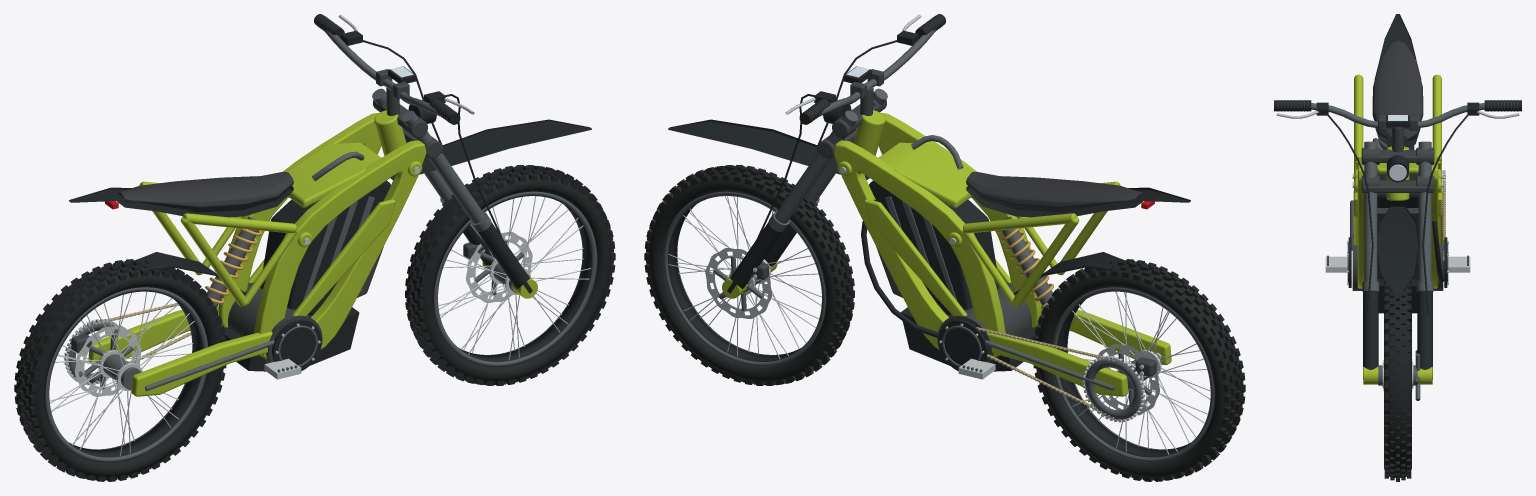
The model's file is sur-ron-light-bee.glb.
The picture shows the model from 3 angles, left to right: view 1: azimuth 30°, elevation 25°; view 2: azimuth 150°, elevation 25°; view 3: azimuth 270°, elevation 25°; orthographic projection. The views are drawn at different scales.
Visible parts, largest first — view 1: Chassis | Reference frame coating, RearWheel | Offroad tyre rubber, FrontWheel | Offroad tyre rubber, RearSuspension | Reference frame coating, Bodywork | Satin black polymer, Contoured narrow saddle, RearWheel | Machined satin aluminium, FrontWheel | Machined satin aluminium, RearWheel | Anodized gunmetal, Removable model battery enclosure, FrontWheel | Anodized gunmetal, Battery lid (+14 smaller); view 2: Chassis | Reference frame coating, RearWheel | Offroad tyre rubber, FrontWheel | Offroad tyre rubber, RearSuspension | Reference frame coating, Bodywork | Satin black polymer, Contoured narrow saddle, FrontWheel | Machined satin aluminium, MotorMount | Satin black polymer, Removable model battery enclosure, RearWheel | Machined satin aluminium, FrontWheel | Anodized gunmetal, Battery lid (+17 smaller); view 3: FrontWheel | Offroad tyre rubber, Bodywork | Satin black polymer, Contoured narrow saddle, Fork | Anodized gunmetal, Chassis | Reference frame coating, Fork | Satin black polymer, Fork | Cast graphite aluminium, Cockpit | Satin black polymer, RearSuspension | Reference frame coating, MotorMount | Satin black polymer, Swept riser handlebar, Chassis | Machined satin aluminium (+10 smaller).
Boxes of the visible parts, left/top/right/bottom form: Chassis | Reference frame coating: left=218, top=110, right=426, bottom=358; RearWheel | Offroad tyre rubber: left=14, top=259, right=226, bottom=481; FrontWheel | Offroad tyre rubber: left=405, top=165, right=615, bottom=385; RearSuspension | Reference frame coating: left=88, top=181, right=297, bottom=396; Bodywork | Satin black polymer: left=69, top=119, right=591, bottom=295; Contoured narrow saddle: left=117, top=171, right=293, bottom=212; RearWheel | Machined satin aluminium: left=49, top=291, right=194, bottom=455; FrontWheel | Machined satin aluminium: left=438, top=196, right=590, bottom=360; RearWheel | Anodized gunmetal: left=45, top=287, right=208, bottom=462; Removable model battery enclosure: left=260, top=180, right=390, bottom=314; FrontWheel | Anodized gunmetal: left=434, top=191, right=597, bottom=367; Battery lid: left=287, top=142, right=381, bottom=207; Chassis | Reference frame coating: left=833, top=110, right=1041, bottom=357; RearWheel | Offroad tyre rubber: left=1033, top=259, right=1245, bottom=481; FrontWheel | Offroad tyre rubber: left=644, top=165, right=854, bottom=385; RearSuspension | Reference frame coating: left=962, top=181, right=1171, bottom=396; Bodywork | Satin black polymer: left=668, top=119, right=1190, bottom=295; Contoured narrow saddle: left=966, top=171, right=1142, bottom=212; FrontWheel | Machined satin aluminium: left=668, top=196, right=821, bottom=359; MotorMount | Satin black polymer: left=861, top=199, right=1035, bottom=371; Removable model battery enclosure: left=869, top=180, right=999, bottom=314; RearWheel | Machined satin aluminium: left=1072, top=291, right=1210, bottom=454; FrontWheel | Anodized gunmetal: left=662, top=191, right=825, bottom=367; Battery lid: left=878, top=142, right=972, bottom=207; FrontWheel | Offroad tyre rubber: left=1384, top=279, right=1411, bottom=481; Bodywork | Satin black polymer: left=1374, top=14, right=1421, bottom=295; Contoured narrow saddle: left=1372, top=40, right=1423, bottom=141; Fork | Anodized gunmetal: left=1362, top=141, right=1433, bottom=291; Chassis | Reference frame coating: left=1353, top=146, right=1442, bottom=288; Fork | Satin black polymer: left=1363, top=290, right=1432, bottom=379; Fork | Cast graphite aluminium: left=1361, top=147, right=1434, bottom=192; Cockpit | Satin black polymer: left=1316, top=102, right=1479, bottom=317; RearSuspension | Reference frame coating: left=1353, top=74, right=1442, bottom=193; MotorMount | Satin black polymer: left=1348, top=221, right=1447, bottom=313; Swept riser handlebar: left=1311, top=103, right=1484, bottom=128; Chassis | Machined satin aluminium: left=1325, top=173, right=1470, bottom=272.
Size of the model in its own units: 1.9 by 1.07 by 0.756.
